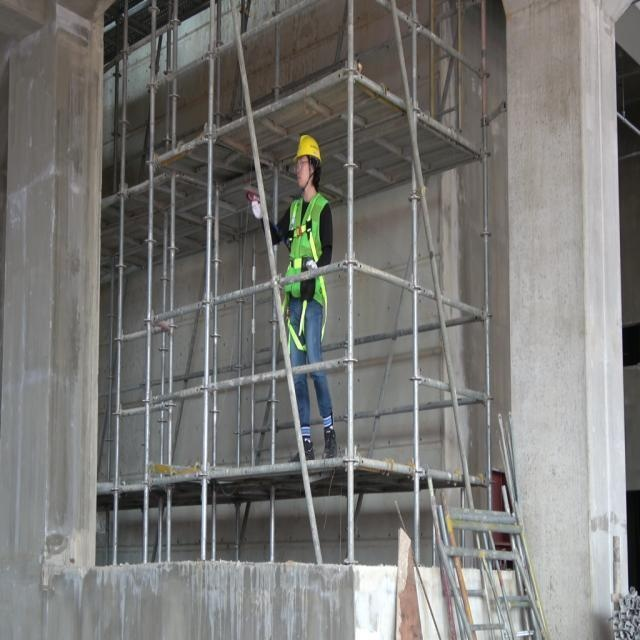Arnes_seguridad: (277, 191, 322, 353)
